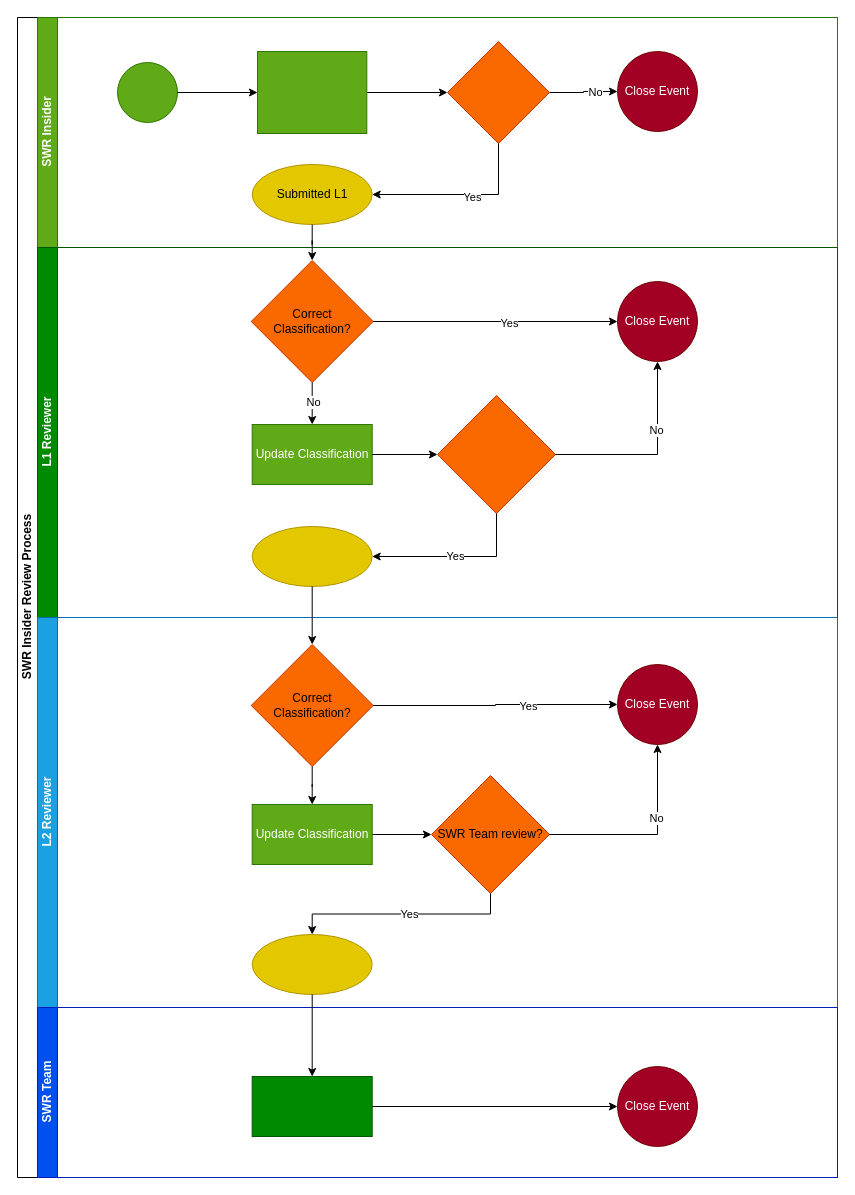
Some shapes in this 855 by 1195 pixel diagram are drawn without their labels. The centre of each missing label's shape, as x and y in pixels:
"Create Event" goes at point 147,92.
"L2 Review?" goes at point 496,454.
"Review Event Update Classification" goes at point 311,1106.
"Review required?" goes at point 498,92.
"Set Time/Date Classify Event Add details" goes at point 311,92.
"Submitted L2" goes at point 311,556.
"Submitted SWR Team" goes at point 311,964.
